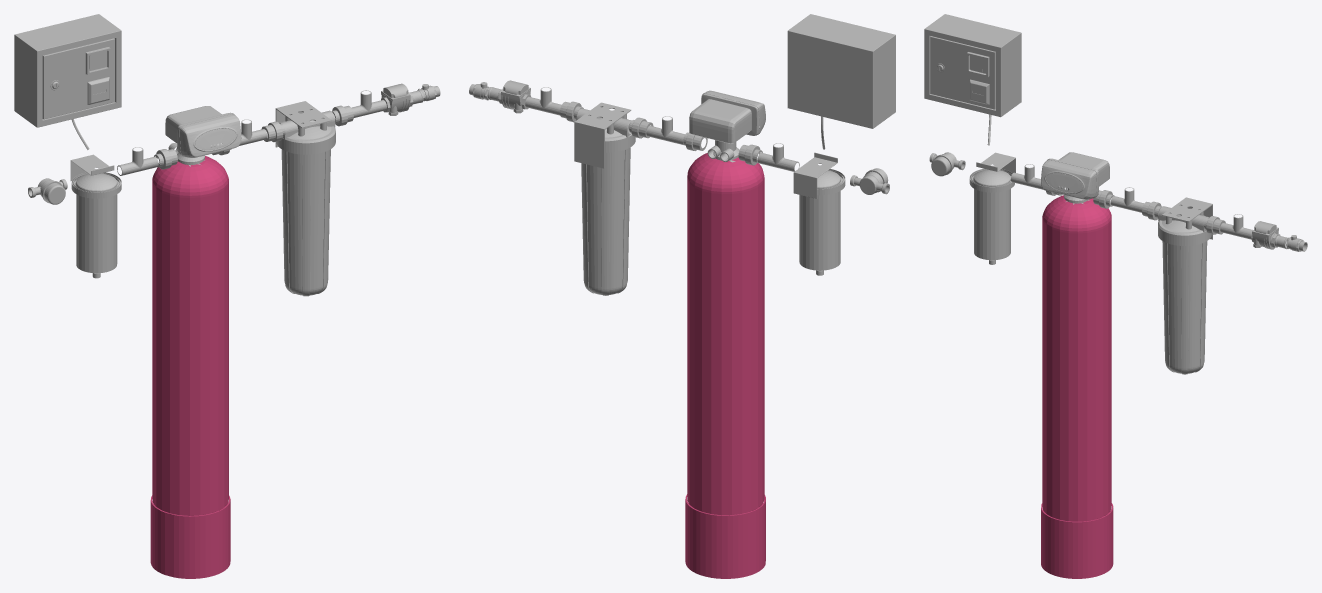
Rendered from interactive_12_1.glb.
The picture shows the model from 3 angles, left to right: view 1: azimuth 30°, elevation 25°; view 2: azimuth 150°, elevation 25°; view 3: azimuth 330°, elevation 25°; orthographic projection. The views are drawn at different scales.
Visible parts, largest first — view 1: pred_target_mesh.ply; view 2: pred_target_mesh.ply; view 3: pred_target_mesh.ply.
Part boxes in pixels (left/top/right/bottom): pred_target_mesh.ply: left=14, top=14, right=440, bottom=578; pred_target_mesh.ply: left=469, top=14, right=895, bottom=578; pred_target_mesh.ply: left=924, top=14, right=1307, bottom=578.
Size of the model in its own units: 0.608 by 0.7869 by 0.1053.
